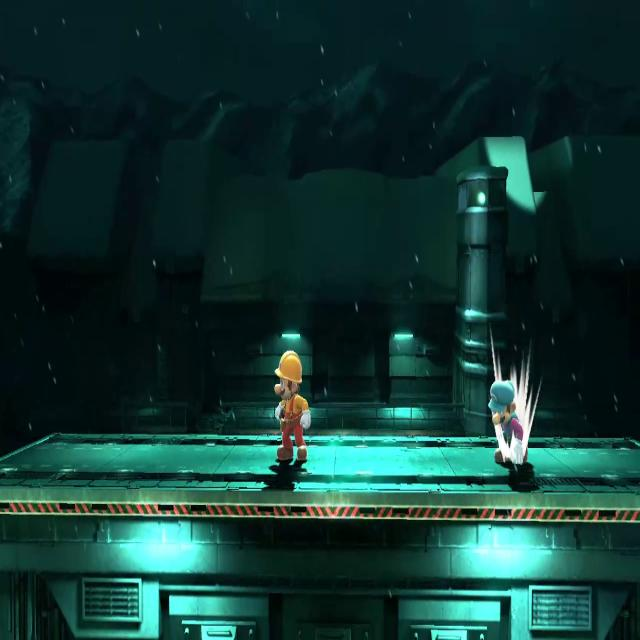Mario: (272, 345, 314, 465), (485, 374, 531, 467)
